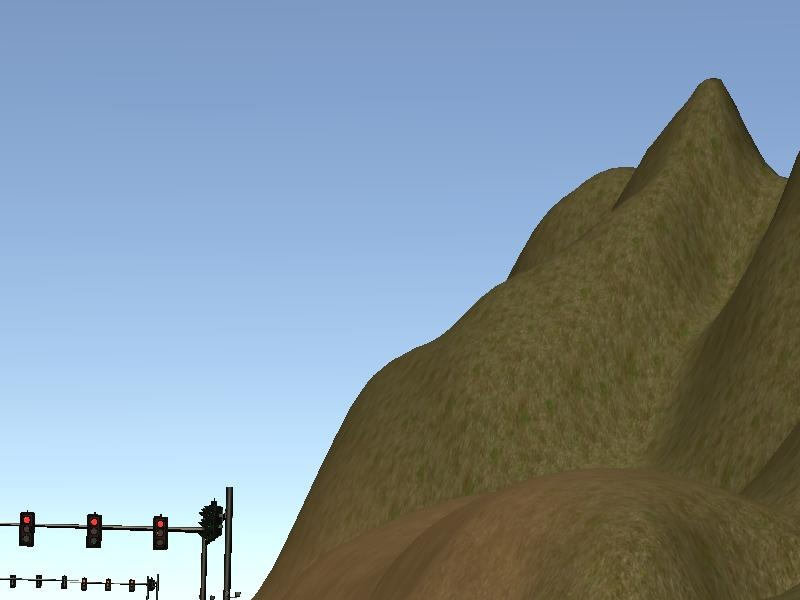red: (85, 510, 104, 553), (16, 509, 38, 546), (153, 513, 167, 551)
